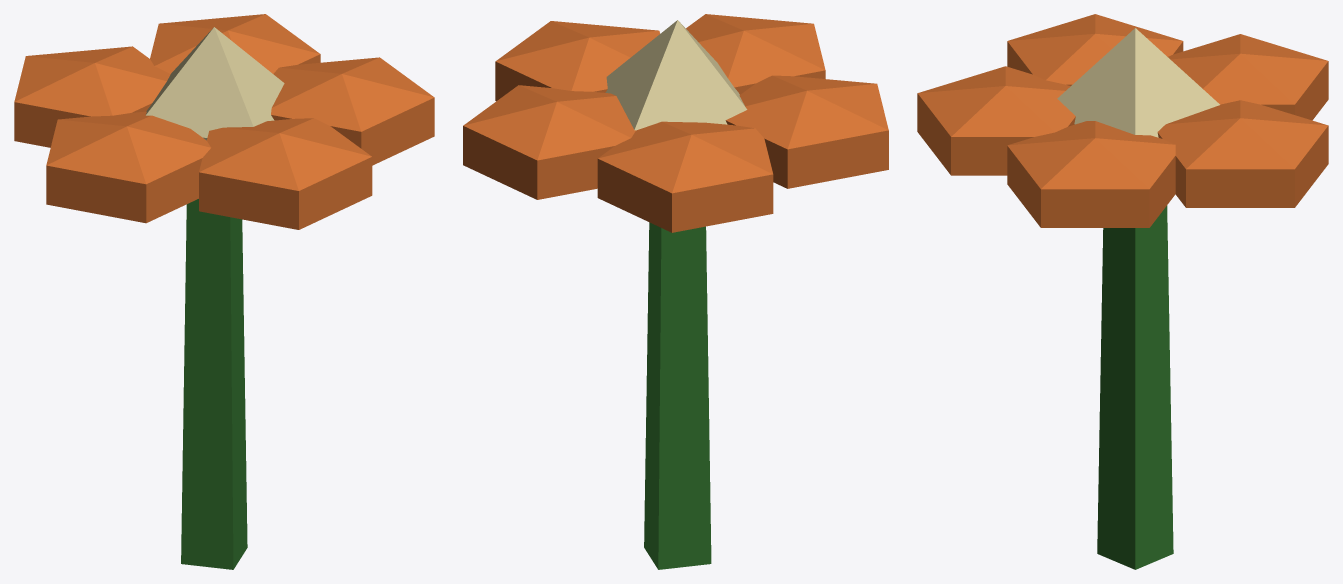
The model's file is biome-orchard-flowerOrange.glb.
3 views of the same model, side by side, from view 1: azimuth 30°, elevation 25°; view 2: azimuth 150°, elevation 25°; view 3: azimuth 270°, elevation 25° (orthographic).
Bounding box in the file's own units: 0.5427 × 0.76 × 0.5382.
